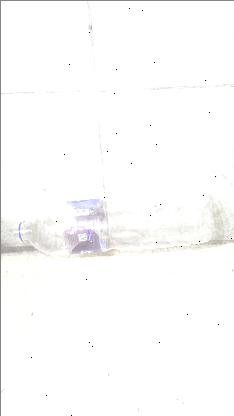Plastic Bottle: (13, 190, 214, 256)
